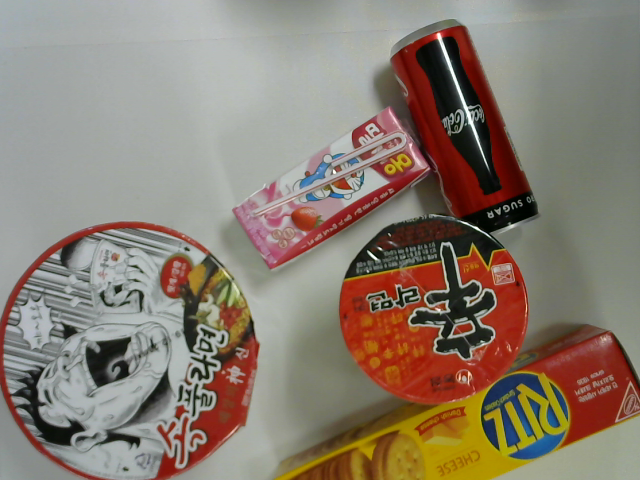Coca_Cola_Zero_Can_250ml: (385, 18, 539, 236)
Hejangpul: (1, 217, 258, 480)
Ritz_Sand_Cracker: (271, 321, 640, 480)
Sinramen_small: (337, 215, 529, 405)
Strawberry_E_Mong: (230, 102, 435, 272)
